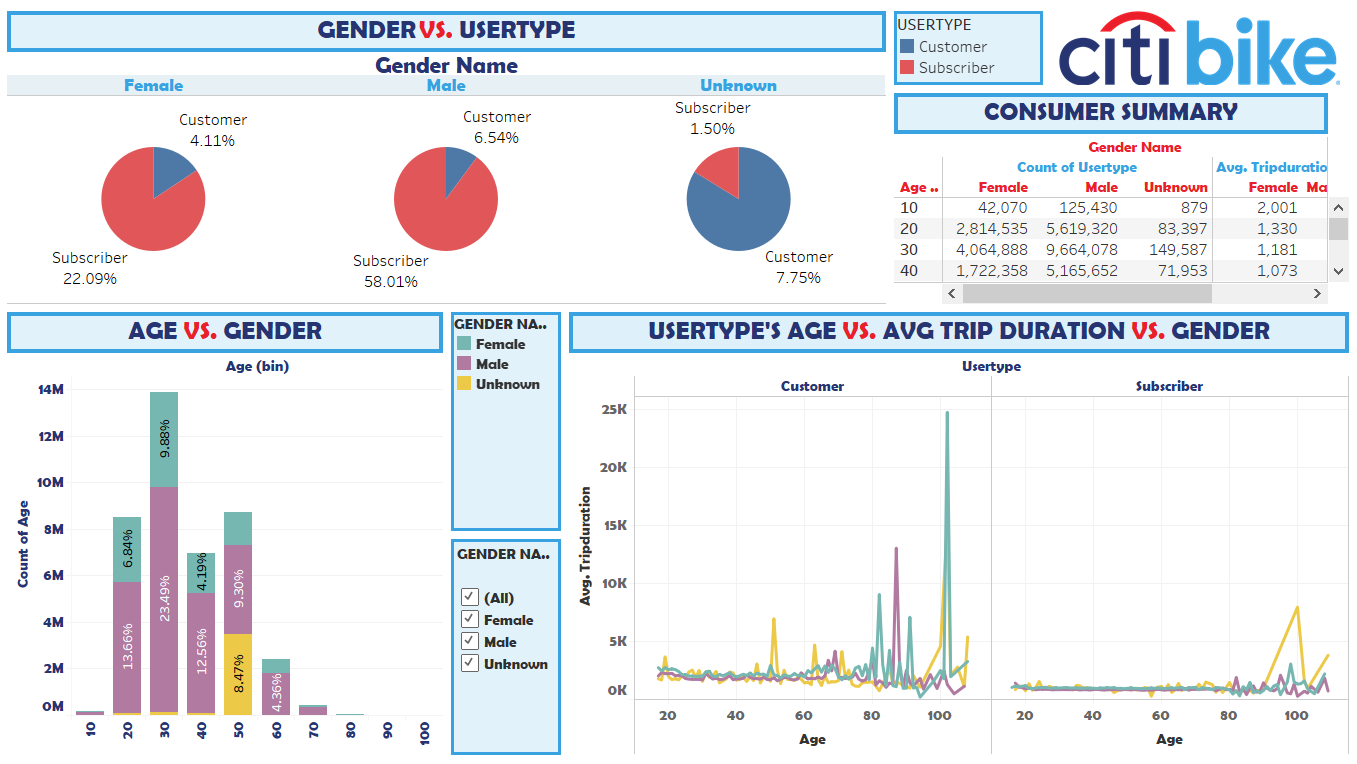

This screenshot's page, from the dashboard's own definition file:
{"tool":"tableau","page":{"name":"Dashboard 2-Customer","canvas":[1366,768],"ordinal":3},"visuals":[{"type":"worksheet","box":[0,0,1366,768]},{"type":"worksheet","param":"horz","box":[8,8,1350,752]},{"type":"worksheet","box":[8,8,1350,752]},{"type":"worksheet","title":"D2.Gender-UserType","mark":"Pie","cols":["Calculation_799951902058409988"],"box":[8,8,887,301]},{"type":"worksheet","title":"D2.Gender-UserType","mark":"Pie","cols":["Calculation_799951902058409988"],"param":"[federated.1l2b23d1flpult17ttkdf0ii0clc].[none:usertype:nk]","box":[895,8,156.5,82]},{"type":"worksheet","param":"C:/Users/16477/Downloads/1280px-Citi_Bike_logo.svg.png","box":[1051.5,8,306.5,82]},{"type":"worksheet","title":"D2.Table Age","mark":"Automatic","rows":["Age (bin)"],"cols":["Calculation_799951902058409988"],"box":[895,90,463,219]},{"type":"worksheet","title":"D2.Age-Gender","mark":"Automatic","rows":["Calculation_799951902043742211"],"cols":["Age (bin)"],"box":[8,309,444,451]},{"type":"worksheet","title":"D2.Age-Gender","mark":"Automatic","rows":["Calculation_799951902043742211"],"cols":["Age (bin)"],"param":"[federated.1l2b23d1flpult17ttkdf0ii0clc].[none:Calculation_799951902058409988:nk","box":[452,309,118,227]},{"type":"worksheet","title":"D2.Duration-Age","mark":"Automatic","rows":["tripduration"],"cols":["usertype","Calculation_799951902043742211"],"box":[570,309,788,451]},{"type":"worksheet","title":"D2.Duration-Age","mark":"Automatic","rows":["tripduration"],"cols":["usertype","Calculation_799951902043742211"],"param":"[federated.1l2b23d1flpult17ttkdf0ii0clc].[none:Calculation_799951902058409988:nk","box":[452,536,118,224]}]}

Visuals, with their boxes in screenshot pixels (x1, y1, x2, y2), scaled from the page's 1366x768 canvas onto the 1357x764 screenshot:
worksheet: box=[0, 0, 1356, 763]
worksheet: box=[8, 8, 1349, 756]
worksheet: box=[8, 8, 1349, 756]
"D2.Gender-UserType" worksheet (Pie marks): box=[8, 8, 889, 307]
"D2.Gender-UserType" worksheet (Pie marks): box=[889, 8, 1045, 90]
worksheet: box=[1045, 8, 1349, 90]
"D2.Table Age" worksheet: box=[889, 90, 1349, 307]
"D2.Age-Gender" worksheet: box=[8, 307, 449, 756]
"D2.Age-Gender" worksheet: box=[449, 307, 566, 533]
"D2.Duration-Age" worksheet: box=[566, 307, 1349, 756]
"D2.Duration-Age" worksheet: box=[449, 533, 566, 756]
